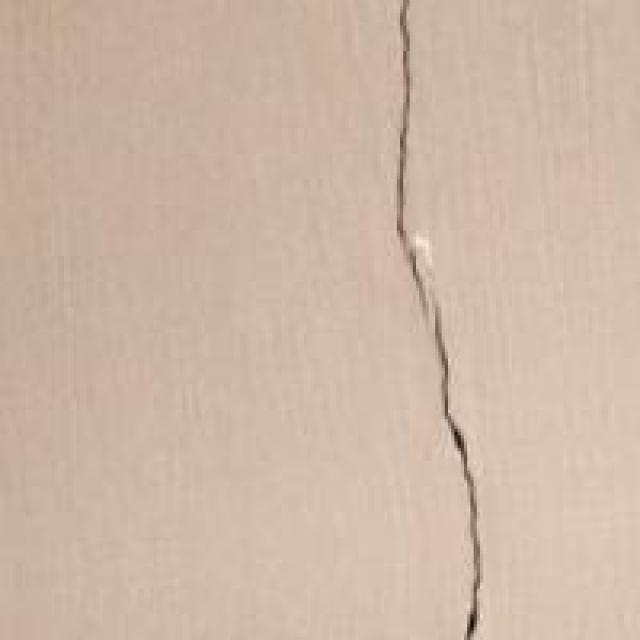crack: (358, 0, 516, 637)
